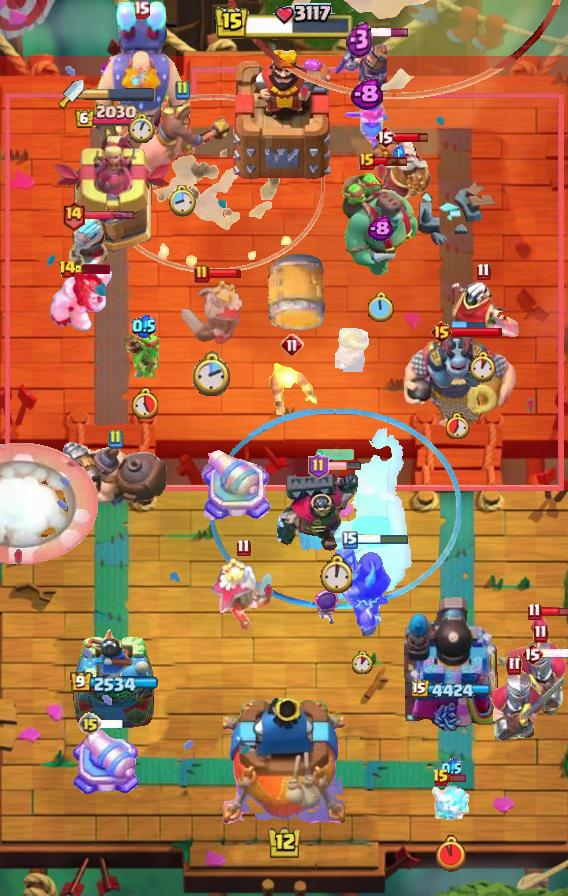bar: (52, 132, 176, 256)
bat: (430, 783, 472, 825)
bowler: (265, 357, 320, 419)
clock: (213, 3, 355, 43)
dirt: (266, 253, 334, 333)
electro-spirit: (349, 78, 383, 111), (346, 21, 374, 59), (367, 216, 393, 242), (132, 314, 156, 338), (442, 757, 463, 779), (393, 145, 405, 161)
elixir: (192, 351, 231, 398), (319, 554, 352, 594), (436, 835, 466, 873), (468, 351, 498, 383), (168, 185, 196, 218), (366, 292, 394, 324), (130, 387, 157, 419), (129, 112, 155, 143), (446, 412, 470, 439), (351, 650, 373, 673)
elixir-collector: (363, 134, 435, 206)
elixir-golem-big: (333, 37, 387, 105)
elixir-golem-small: (424, 330, 492, 392)
emote: (355, 534, 408, 547), (451, 326, 503, 338), (357, 26, 410, 37), (83, 210, 135, 221), (394, 132, 430, 145), (373, 155, 409, 167), (99, 718, 135, 730), (453, 319, 488, 331), (208, 269, 242, 280), (540, 606, 568, 619), (74, 264, 110, 274), (326, 461, 362, 471), (540, 649, 567, 660), (448, 773, 468, 783)
freeze: (130, 98, 234, 172)
giant-skeleton: (402, 329, 518, 429)
giant-snowball: (124, 329, 164, 381)
goblin: (311, 588, 342, 628)
goblin-giant: (335, 327, 371, 373)
guard: (103, 94, 326, 273)
hog-rider: (342, 100, 390, 154)
ice-spirit: (315, 448, 355, 460)
inferno-dragon: (333, 542, 391, 636)
inferno-tower: (277, 469, 393, 553)
king-tower: (223, 698, 345, 826), (229, 43, 339, 181)
king-tower-bar: (84, 87, 156, 101)
lava-hound: (340, 166, 420, 278)
little-prince: (89, 0, 193, 148)
mortar: (65, 214, 111, 278)
mortar-evolution: (209, 557, 277, 631), (180, 278, 244, 350)
pad_0: (208, 409, 462, 611)
queen-tower: (72, 627, 156, 731)
rage: (48, 265, 114, 333)
royal-ghost: (221, 1, 567, 100)
royal-recruit: (198, 446, 274, 528), (71, 725, 142, 801)
selected: (69, 672, 158, 696), (73, 104, 154, 130), (413, 679, 496, 700)
skeleton-king: (447, 271, 519, 345)
text: (62, 200, 87, 231), (430, 320, 454, 344), (280, 333, 304, 357), (78, 712, 102, 736), (307, 453, 328, 479), (374, 125, 396, 149), (521, 642, 543, 666), (58, 259, 77, 279), (432, 768, 450, 788), (133, 1, 151, 20), (174, 80, 190, 100), (194, 264, 210, 284), (107, 429, 123, 449), (359, 152, 375, 170), (342, 531, 358, 549), (477, 262, 492, 281), (236, 539, 251, 557), (527, 603, 541, 622)
tower-bar: (404, 593, 502, 731)
wall-breaker: (0, 442, 98, 566)
wall-breaker-evolution: (484, 655, 568, 745), (496, 615, 568, 717)
wizard: (59, 439, 171, 509)
